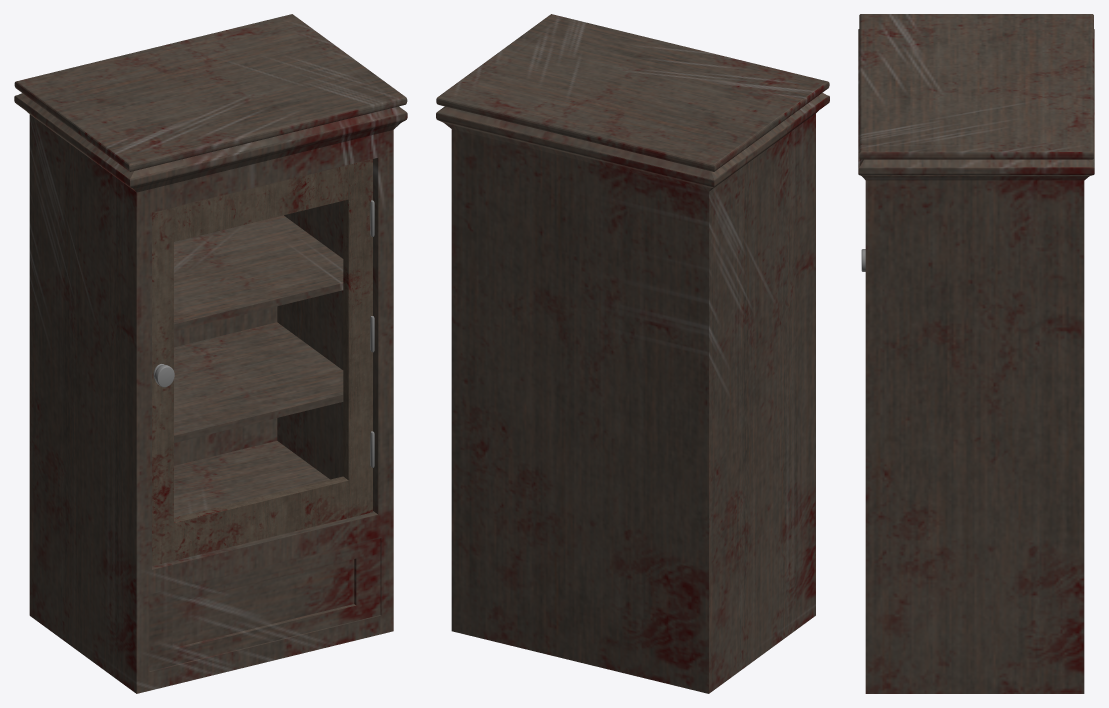
The model's file is armario_cozinha.glb.
The picture shows the model from 3 angles, left to right: view 1: azimuth 30°, elevation 25°; view 2: azimuth 150°, elevation 25°; view 3: azimuth 270°, elevation 25°; orthographic projection. The views are drawn at different scales.
Visible parts, largest first — view 1: Cabinet.001_0, Door.001_1, Hinge.001_2; view 2: Cabinet.001_0; view 3: Cabinet.001_0.
Boxes of the visible parts, x1,y1,x2,y2 form: Cabinet.001_0: (14,14,407,693); Door.001_1: (152,159,372,565); Hinge.001_2: (153,200,374,467); Cabinet.001_0: (436,14,829,693); Cabinet.001_0: (858,14,1094,693).
Bounding box in the file's own units: 1.06 × 1.94 × 0.761.
3 materials, 3 textured.
